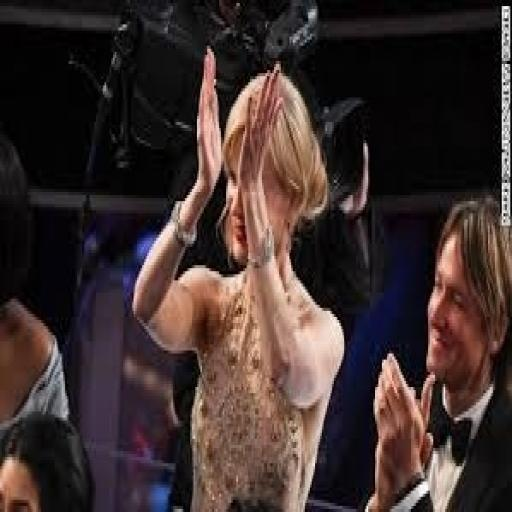clapping: (130, 43, 348, 509), (363, 192, 510, 509)
